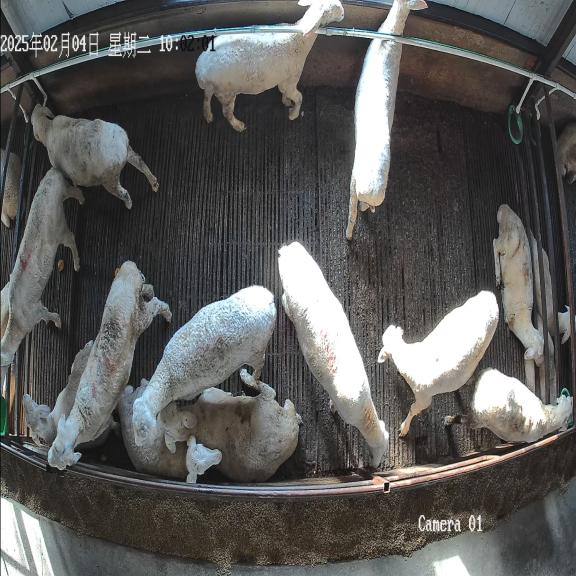drinking: (31, 104, 159, 209)
lying: (160, 369, 301, 482), (118, 379, 222, 483), (493, 205, 543, 366), (23, 341, 93, 446)
stand: (48, 261, 172, 470), (278, 241, 389, 466), (132, 286, 276, 447), (195, 0, 344, 131), (346, 0, 427, 240), (378, 291, 498, 437), (0, 168, 83, 366), (445, 367, 572, 442)
